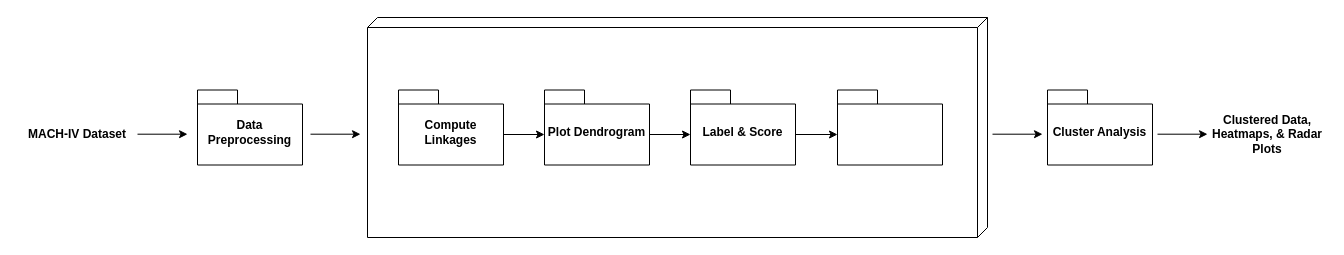
Some shapes in this 1344 by 255 pixel diagram are drawn without their labels. Each missing label, with the box of its shape:
Generate Plots & CSVs: (836, 89, 942, 165)
Hierarchical Clustering: (366, 16, 988, 238)
